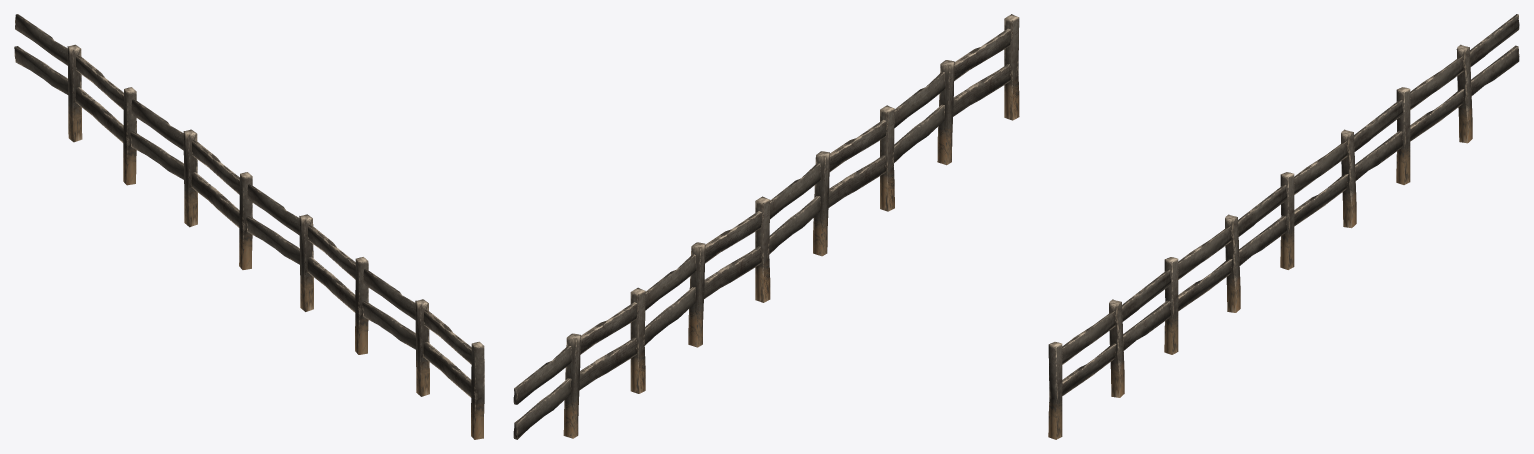
Rendered from fenceLong_lod0.fbx.
The picture shows the model from 3 angles, left to right: view 1: azimuth 30°, elevation 25°; view 2: azimuth 150°, elevation 25°; view 3: azimuth 330°, elevation 25°; orthographic projection. The views are drawn at different scales.
Visible parts, largest first — view 1: fenceLong_lod0; view 2: fenceLong_lod0; view 3: fenceLong_lod0.
Boxes of the visible parts, left/top/right/bottom form: fenceLong_lod0: left=14, top=14, right=484, bottom=439; fenceLong_lod0: left=513, top=14, right=1019, bottom=439; fenceLong_lod0: left=1048, top=14, right=1519, bottom=439.
Bounding box in the file's own units: 26.81 × 179 × 1605.
